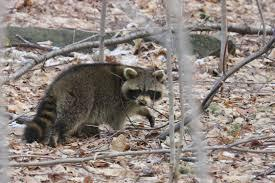raccoon: (15, 55, 174, 158)
